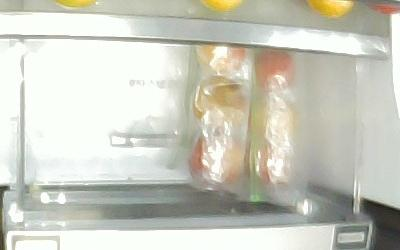prune_vinyl: (186, 128, 244, 187), (191, 74, 247, 126), (248, 94, 299, 144), (244, 140, 292, 188), (251, 49, 294, 92), (195, 44, 246, 75)
